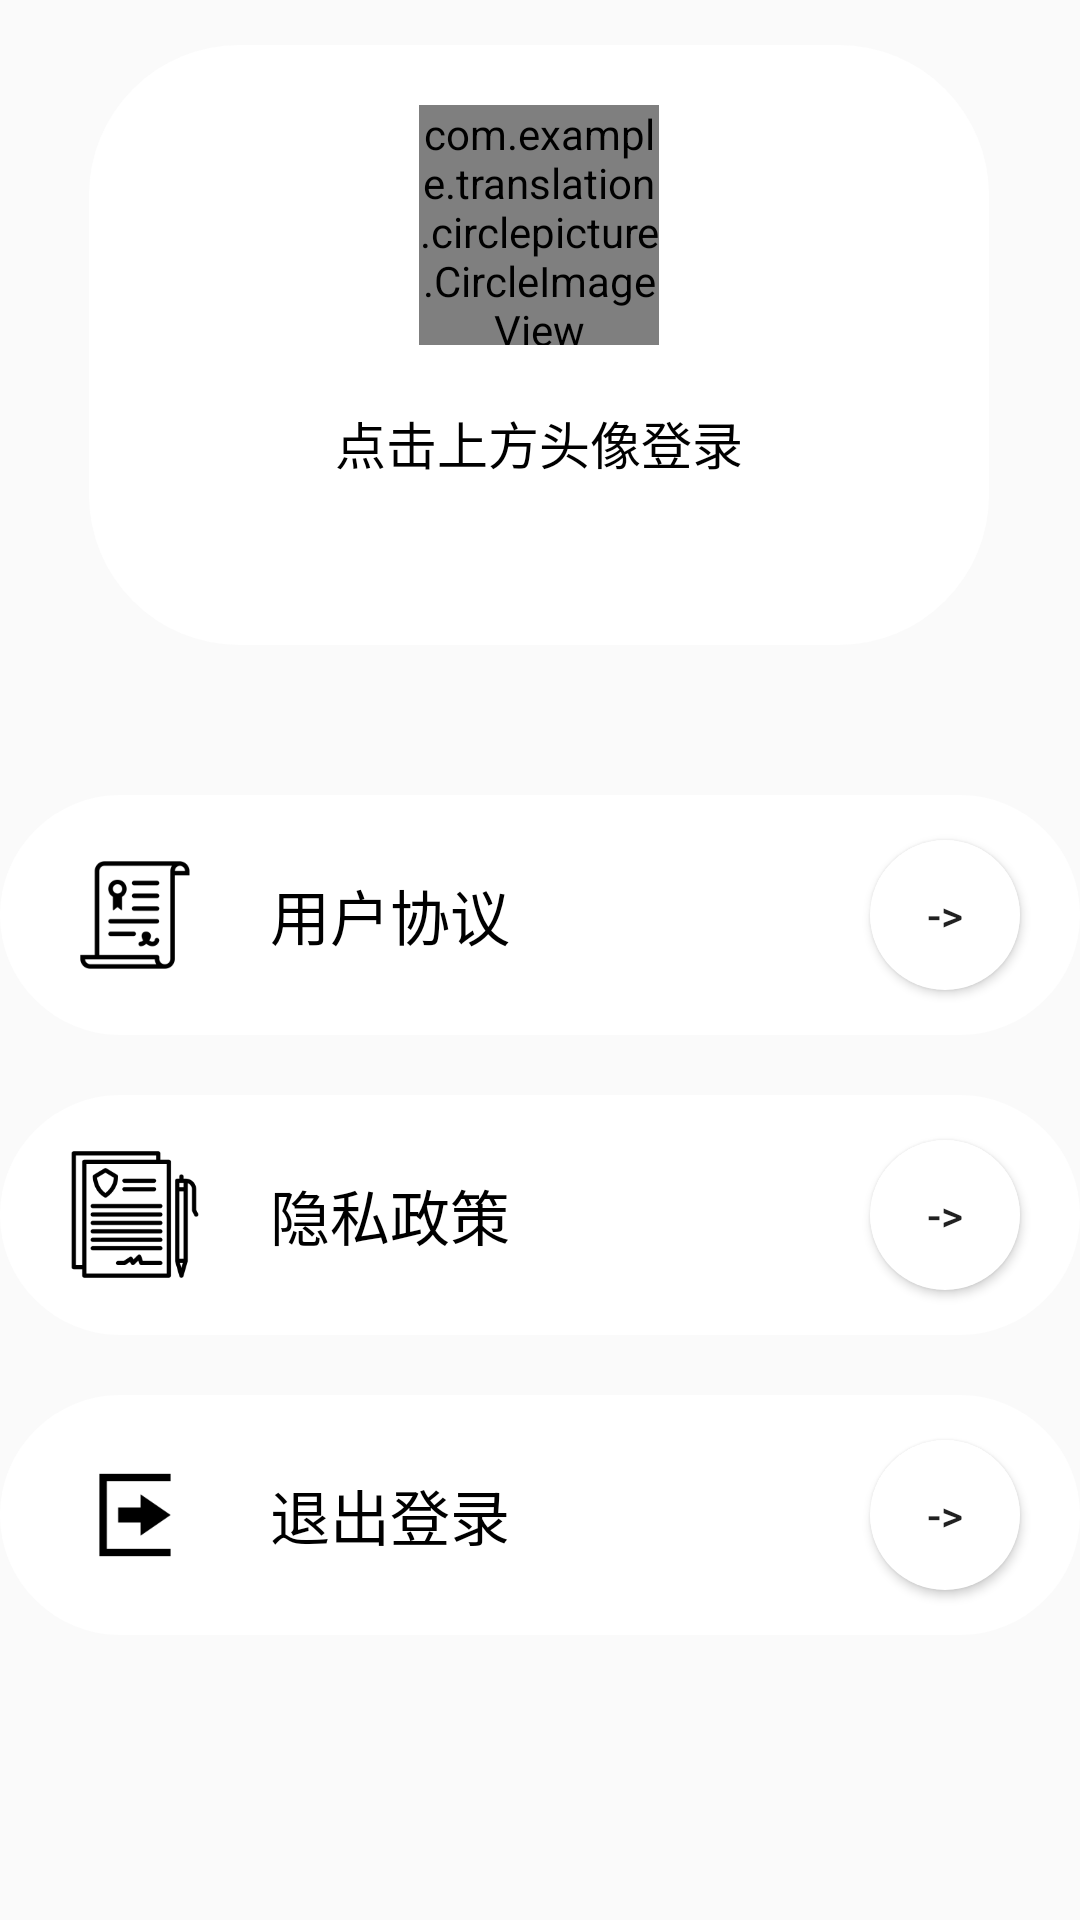

Screen size 1080*1920. Icon name, then its center in pixels as point (x, y):
xieyi: point (135, 915)
zhengce: point (135, 1214)
